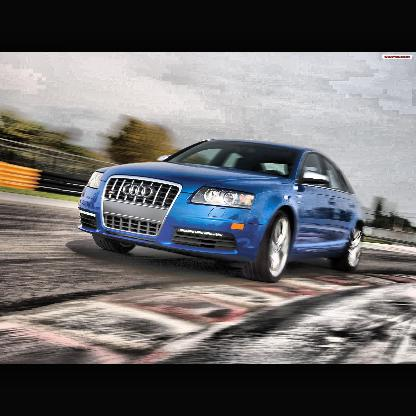Audi S6 Sedan 2011: (79, 139, 368, 282)
